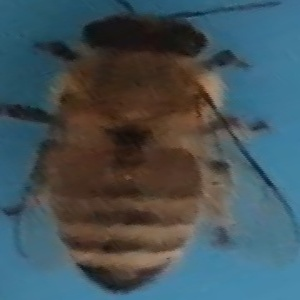bee: (10, 6, 280, 294)
